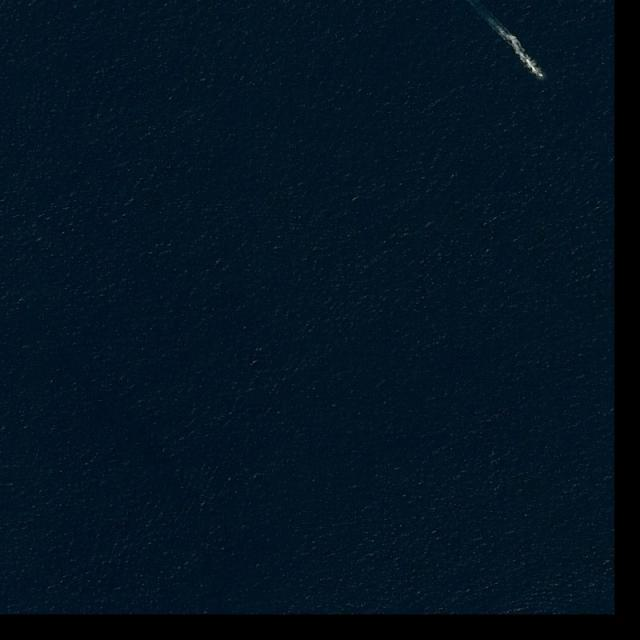ship: (537, 72, 545, 79)
